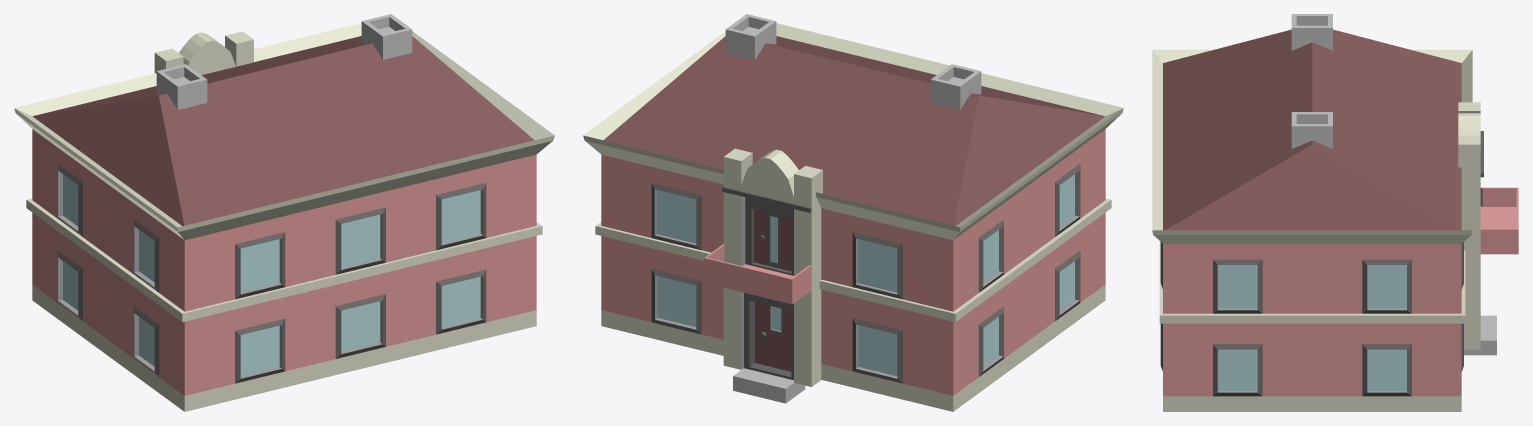
File: Gemeentehuis.fbx
3 views of the same model, side by side, from view 1: azimuth 30°, elevation 25°; view 2: azimuth 150°, elevation 25°; view 3: azimuth 270°, elevation 25° (orthographic). The views are drawn at different scales.
Parts seen in each view (by area): view 1: pCylinder3; view 2: pCylinder3; view 3: pCylinder3.
Part boxes in pixels (box(x1,y1,x2,y2)): pCylinder3: box(14, 14, 554, 411); pCylinder3: box(583, 14, 1123, 411); pCylinder3: box(1152, 14, 1518, 411).
Size of the model in its own units: 4.29 by 3.02 by 3.68.
